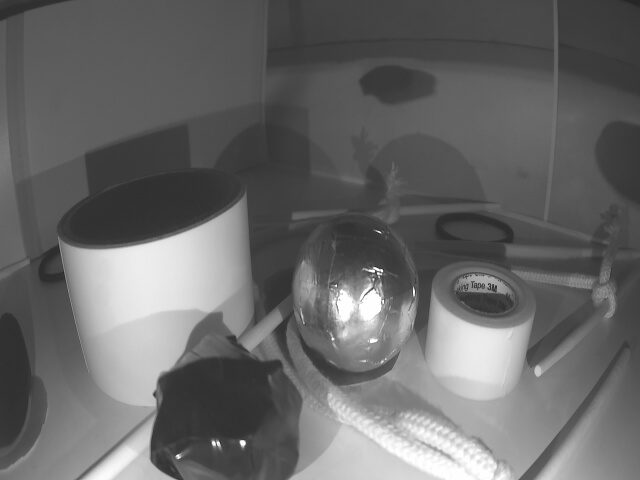Dead: (157, 346, 276, 480)
Live: (296, 216, 420, 374)
